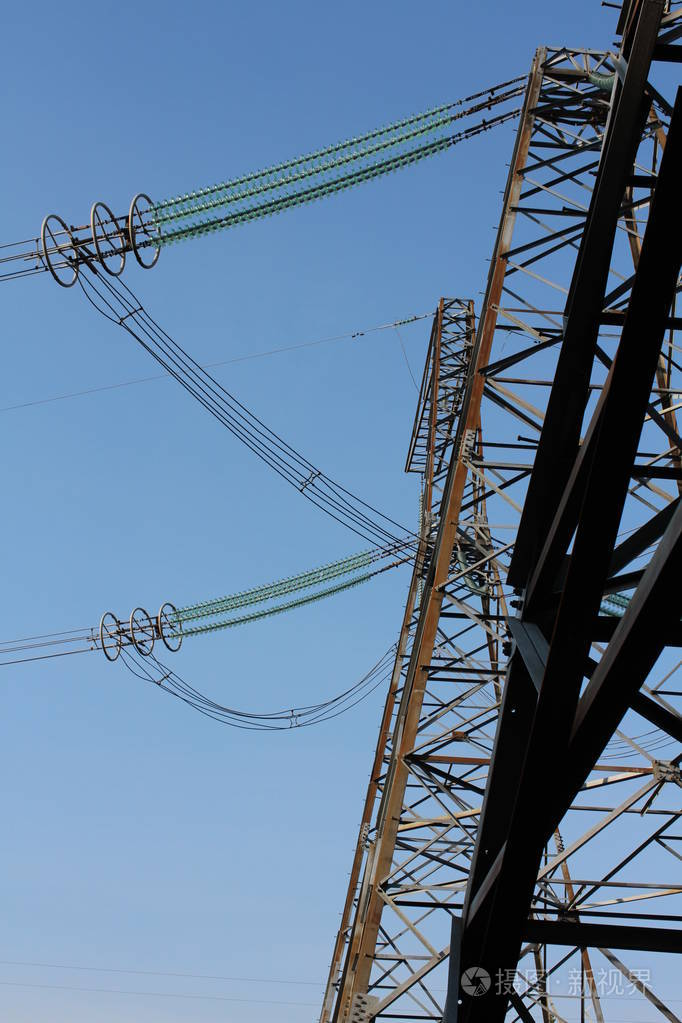insulator: (146, 99, 454, 245), (168, 549, 367, 643)
